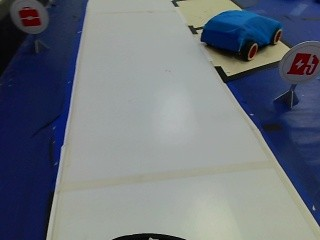battery: (286, 42, 318, 88)
car: (190, 8, 284, 60)
company: (11, 1, 47, 37)
